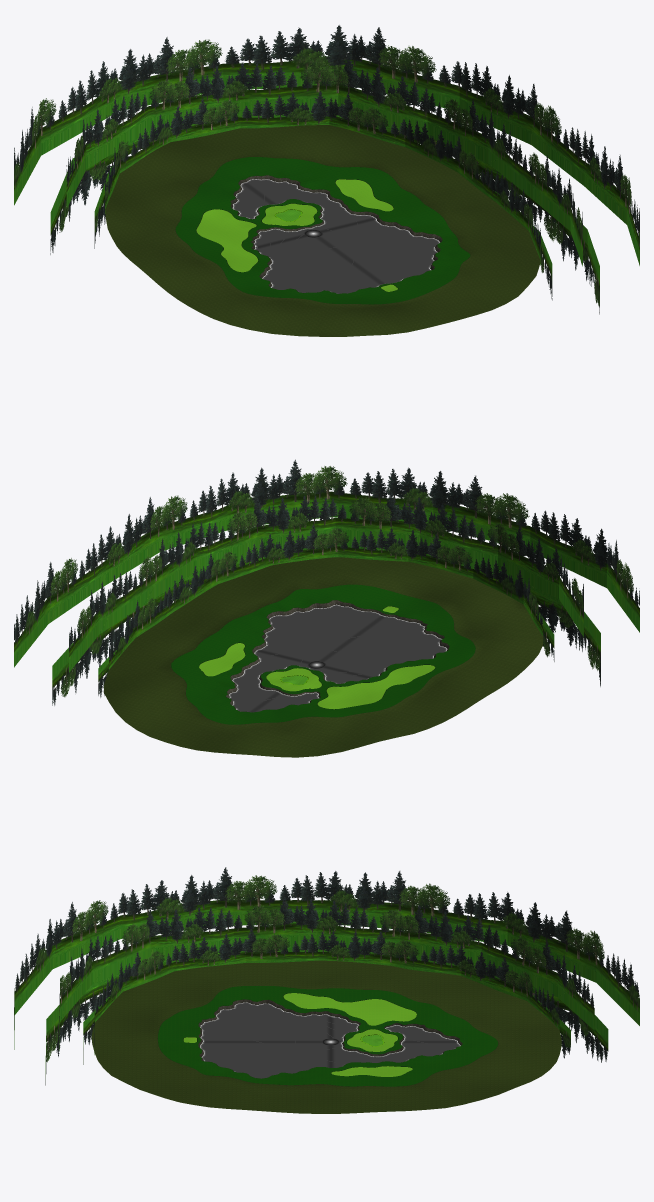
File: glf_course_fc11__glf_course_fc11.glb
3 views of the same model, one above another, from view 1: azimuth 30°, elevation 25°; view 2: azimuth 150°, elevation 25°; view 3: azimuth 270°, elevation 25° (orthographic). The views are drawn at different scales.
Parts seen in each view (by area): view 1: polygon11, polygon22, polygon23, polygon25, polygon16, polygon20, polygon0; view 2: polygon11, polygon22, polygon23, polygon25, polygon16, polygon20, polygon0; view 3: polygon11, polygon22, polygon23, polygon25, polygon16, polygon20, polygon0, polygon9.
Boxes of the visible parts, box(x1,y1,x2,y2) form: polygon11: box(14, 25, 639, 314); polygon22: box(105, 125, 540, 336); polygon23: box(175, 157, 470, 304); polygon25: box(233, 179, 439, 293); polygon16: box(196, 179, 397, 291); polygon20: box(230, 175, 442, 291); polygon0: box(230, 175, 442, 294); polygon11: box(14, 459, 639, 705); polygon22: box(103, 557, 542, 757); polygon23: box(171, 584, 475, 724); polygon25: box(229, 605, 446, 712); polygon16: box(199, 606, 435, 709); polygon20: box(226, 600, 449, 709); polygon0: box(225, 600, 449, 712); polygon11: box(14, 867, 639, 1085); polygon22: box(91, 960, 561, 1113); polygon23: box(158, 986, 497, 1086); polygon25: box(200, 1002, 459, 1078); polygon16: box(183, 993, 416, 1076); polygon20: box(198, 999, 462, 1071); polygon0: box(198, 999, 462, 1078); polygon9: box(200, 1002, 460, 1060).
Bounding box in the file's own units: 5910 × 1521 × 6949.
12 materials, 11 textured.
